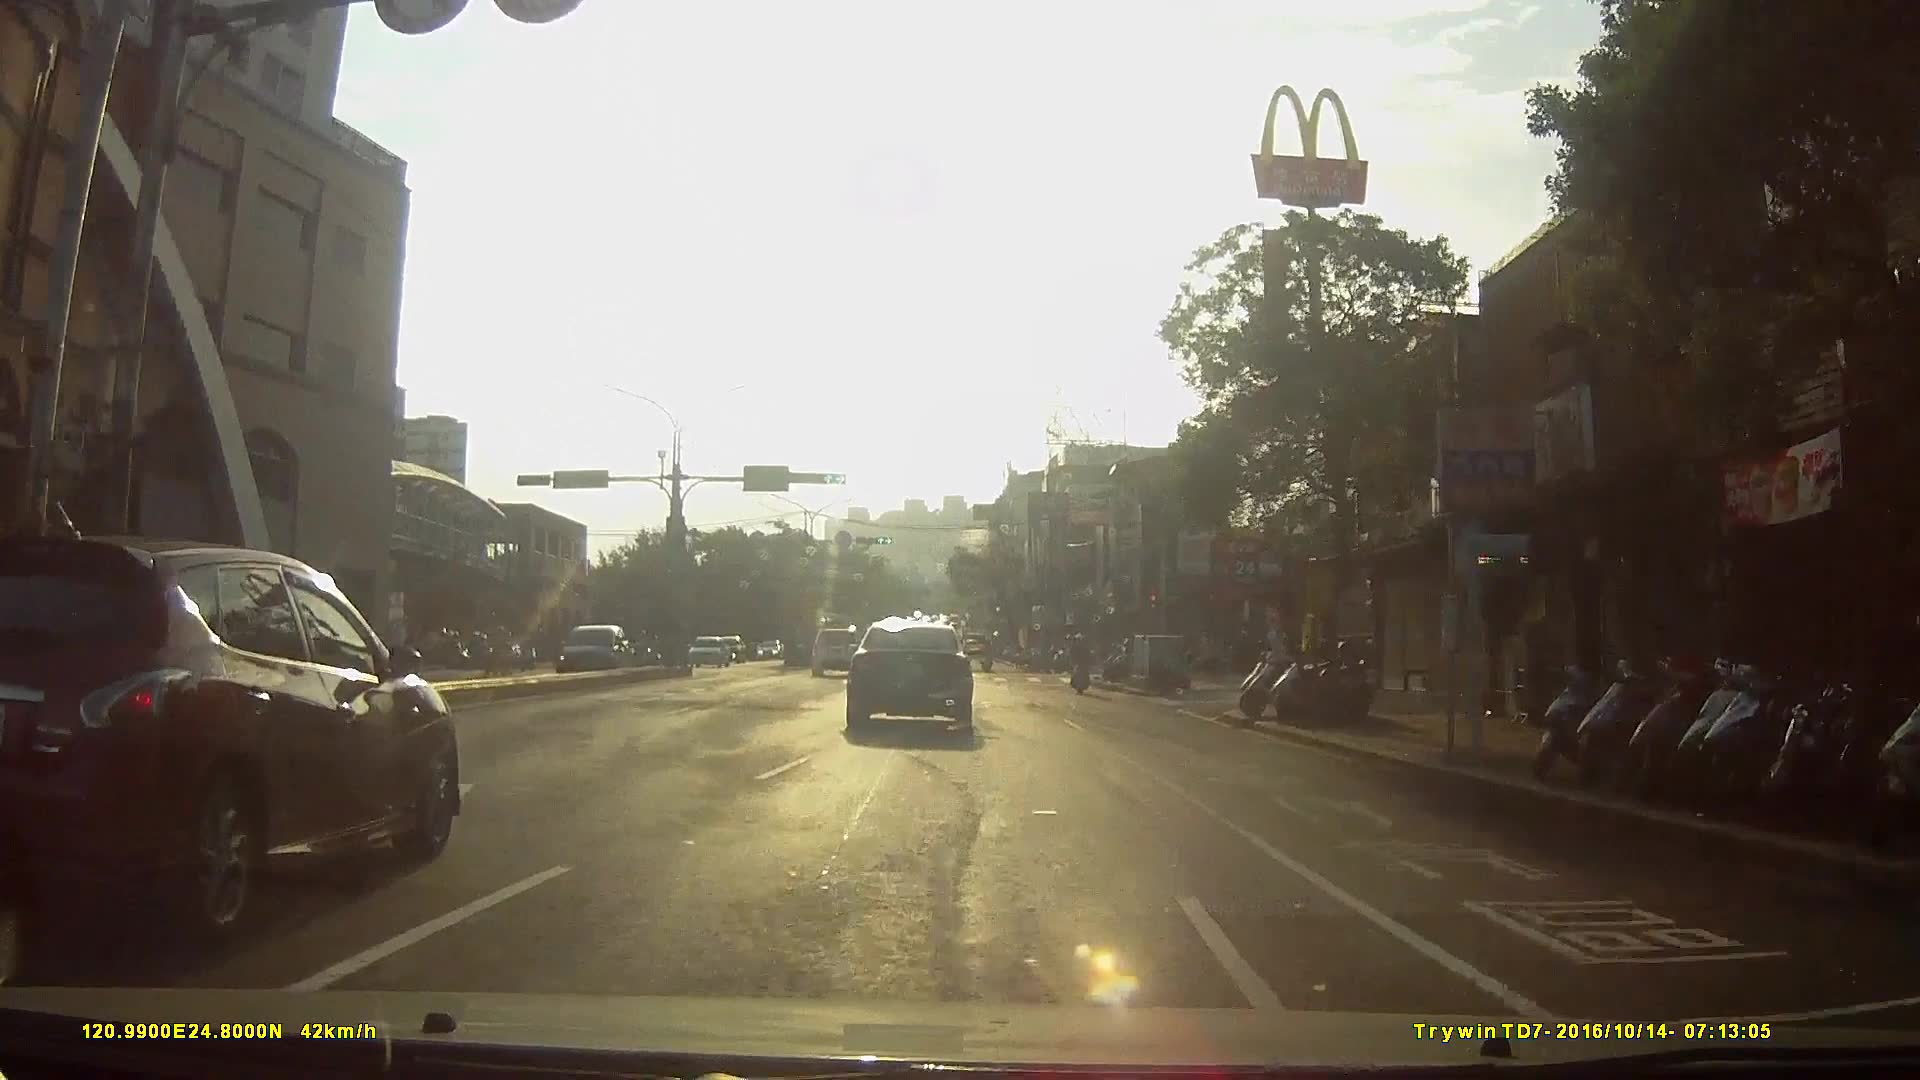rider: (1071, 627, 1096, 694), (977, 637, 997, 676)
vehicle: (1, 524, 477, 946), (843, 610, 990, 734), (546, 620, 639, 682), (808, 622, 865, 677), (684, 629, 732, 669), (706, 631, 750, 662)
